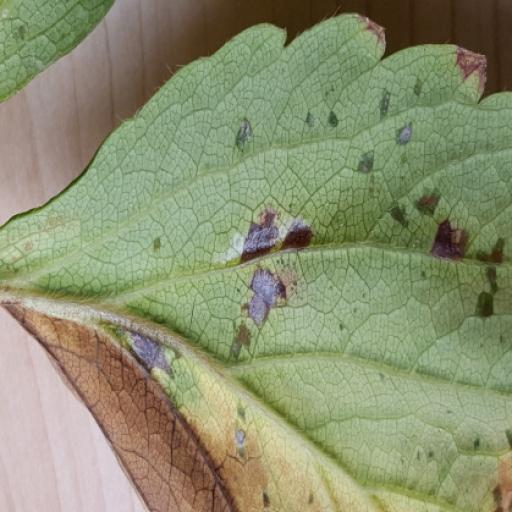Angular Leafspot: (0, 14, 511, 511)
